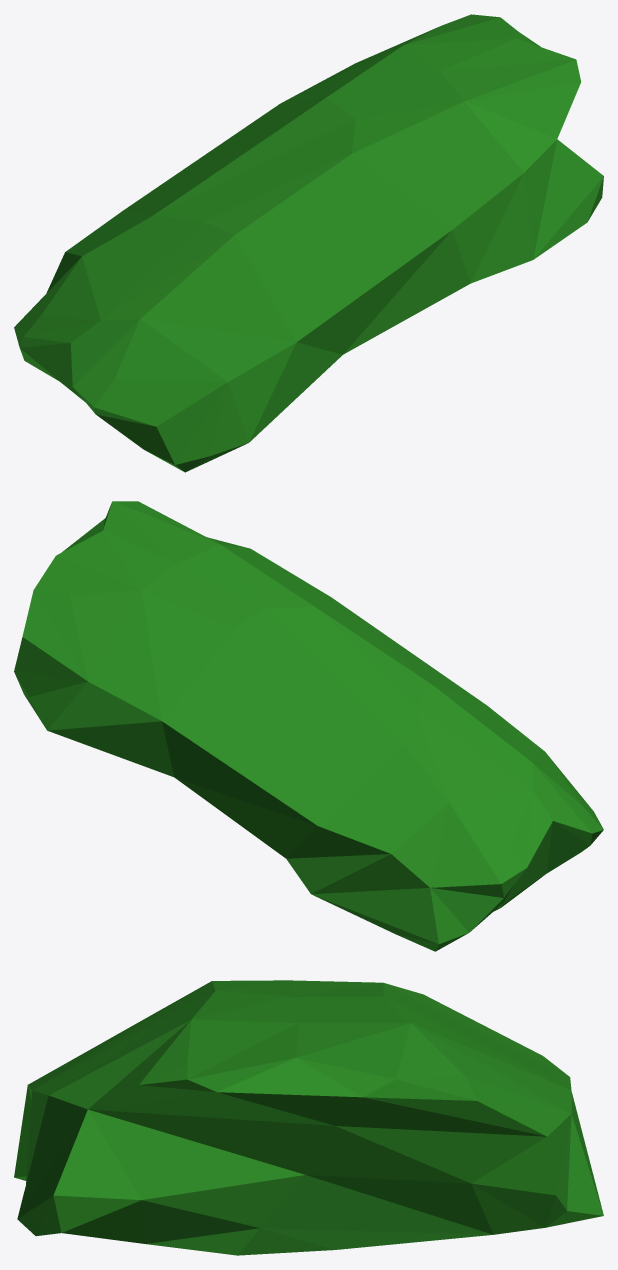
File: o_decal_mediumcurve1.FBX
3 renders of one model, top to bottom at view 1: azimuth 30°, elevation 25°; view 2: azimuth 150°, elevation 25°; view 3: azimuth 270°, elevation 25°, orthographic. The views are drawn at different scales.
Parts seen in each view (by area): view 1: O_GrassCurve_Medium1; view 2: O_GrassCurve_Medium1; view 3: O_GrassCurve_Medium1.
Part boxes in pixels (<box>): O_GrassCurve_Medium1: <box>14,14,603,472</box>; O_GrassCurve_Medium1: <box>14,501,603,951</box>; O_GrassCurve_Medium1: <box>14,980,603,1255</box>.
Bounding box in the file's own units: 288 × 163 × 189.
